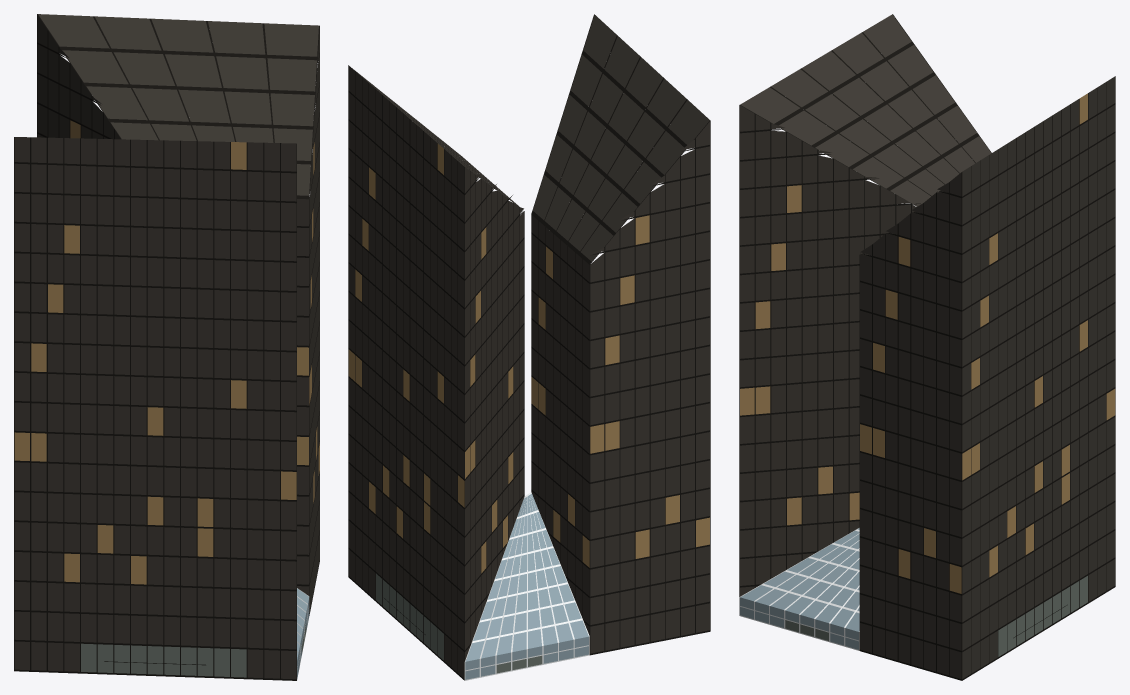
The model's file is pennzoil-place-far.glb.
The picture shows the model from 3 angles, left to right: view 1: azimuth 30°, elevation 25°; view 2: azimuth 150°, elevation 25°; view 3: azimuth 270°, elevation 25°; orthographic projection. The views are drawn at different scales.
Visible parts, largest first — view 1: pennzoil-place-0-glass, pennzoil-place-0-mullion, pennzoil-place-0-light, pennzoil-place-0-lobby, pennzoil-place-0-atrium; view 2: pennzoil-place-0-glass, pennzoil-place-0-mullion, pennzoil-place-0-atrium, pennzoil-place-0-light, pennzoil-place-0-frame, pennzoil-place-0-lobby; view 3: pennzoil-place-0-glass, pennzoil-place-0-mullion, pennzoil-place-0-light, pennzoil-place-0-atrium, pennzoil-place-0-lobby, pennzoil-place-0-frame.
Boxes of the visible parts, x1,y1,x2,y2 form: pennzoil-place-0-glass: [14, 14, 319, 679]; pennzoil-place-0-mullion: [14, 14, 319, 680]; pennzoil-place-0-light: [14, 120, 319, 584]; pennzoil-place-0-lobby: [81, 623, 306, 677]; pennzoil-place-0-atrium: [297, 588, 309, 678]; pennzoil-place-0-glass: [348, 15, 709, 678]; pennzoil-place-0-mullion: [348, 14, 710, 680]; pennzoil-place-0-atrium: [465, 494, 588, 679]; pennzoil-place-0-light: [348, 143, 709, 573]; pennzoil-place-0-frame: [464, 492, 589, 680]; pennzoil-place-0-lobby: [376, 573, 542, 673]; pennzoil-place-0-glass: [740, 14, 1115, 678]; pennzoil-place-0-mullion: [739, 14, 1115, 680]; pennzoil-place-0-light: [740, 93, 1115, 593]; pennzoil-place-0-atrium: [740, 528, 859, 649]; pennzoil-place-0-lobby: [785, 576, 1087, 656]; pennzoil-place-0-frame: [739, 528, 859, 650].
Size of the model in its own units: 106 by 159 by 106.
